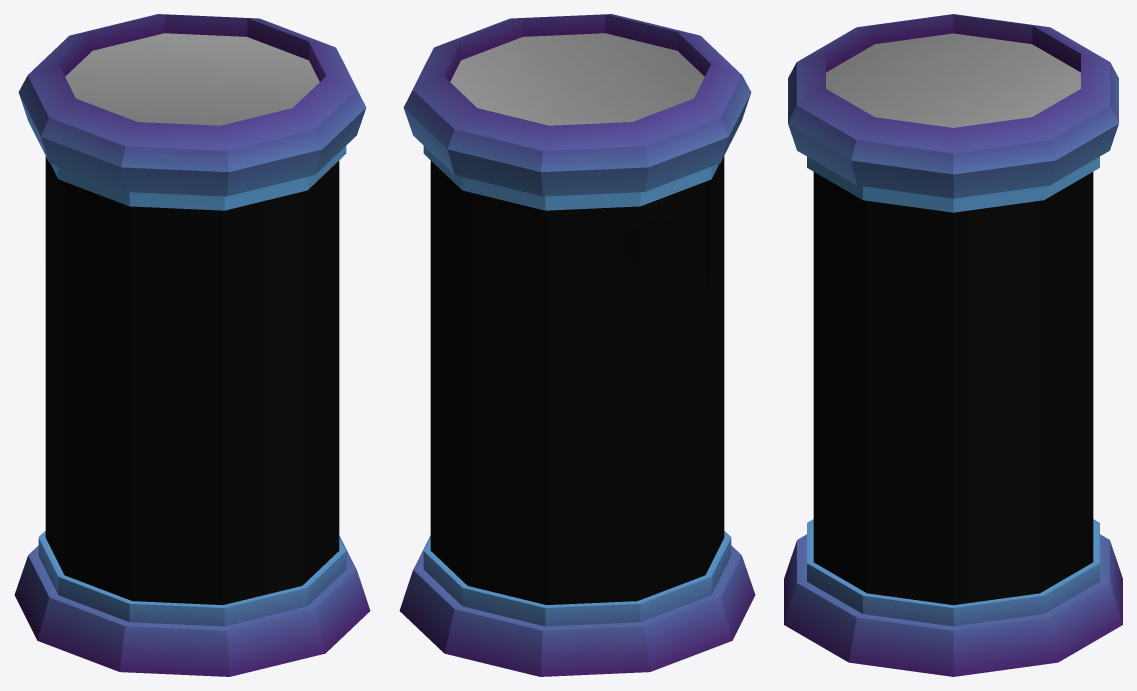
Rendered from Prop_Recipiente.fbx.
3 views of the same model, side by side, from view 1: azimuth 30°, elevation 25°; view 2: azimuth 150°, elevation 25°; view 3: azimuth 270°, elevation 25° (orthographic).
Visible parts, largest first — view 1: Cristal, Recipiente; view 2: Cristal, Recipiente; view 3: Cristal, Recipiente.
Boxes of the visible parts, left/top/right/bottom form: Cristal: left=45, top=156, right=339, bottom=604; Recipiente: left=14, top=14, right=370, bottom=676; Cristal: left=430, top=156, right=724, bottom=604; Recipiente: left=399, top=14, right=755, bottom=676; Cristal: left=813, top=172, right=1093, bottom=605; Recipiente: left=784, top=14, right=1122, bottom=676.
Size of the model in its own units: 73.53 by 121 by 69.93.
